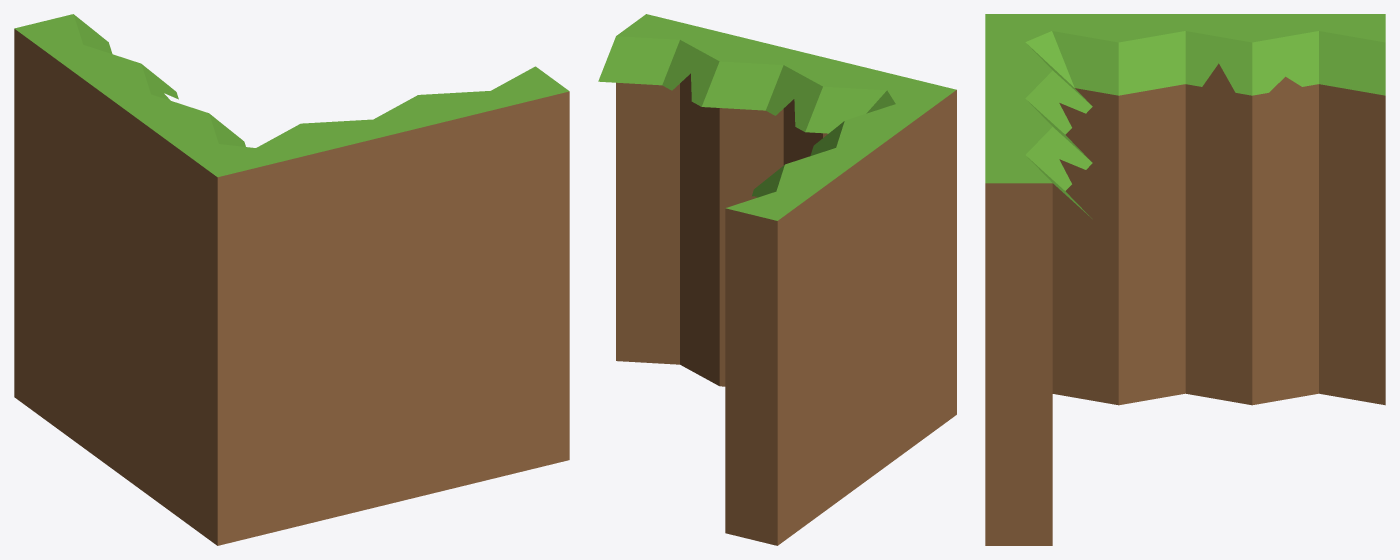
The model's file is cliff_cornerInnerTop_rock.glb.
The picture shows the model from 3 angles, left to right: view 1: azimuth 30°, elevation 25°; view 2: azimuth 150°, elevation 25°; view 3: azimuth 270°, elevation 25°; orthographic projection. The views are drawn at different scales.
Visible parts, largest first — view 1: cliff_cornerInnerTop_rock; view 2: cliff_cornerInnerTop_rock; view 3: cliff_cornerInnerTop_rock.
Boxes of the visible parts, left/top/right/bottom form: cliff_cornerInnerTop_rock: left=14, top=14, right=569, bottom=545; cliff_cornerInnerTop_rock: left=598, top=14, right=956, bottom=545; cliff_cornerInnerTop_rock: left=985, top=14, right=1385, bottom=545.
Size of the model in its own units: 1 by 1 by 1.
